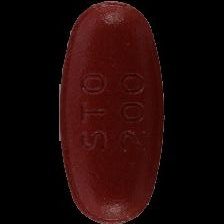0378-8305: (0, 0, 224, 224)
